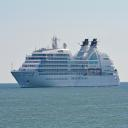cruises: (11, 36, 122, 89)
